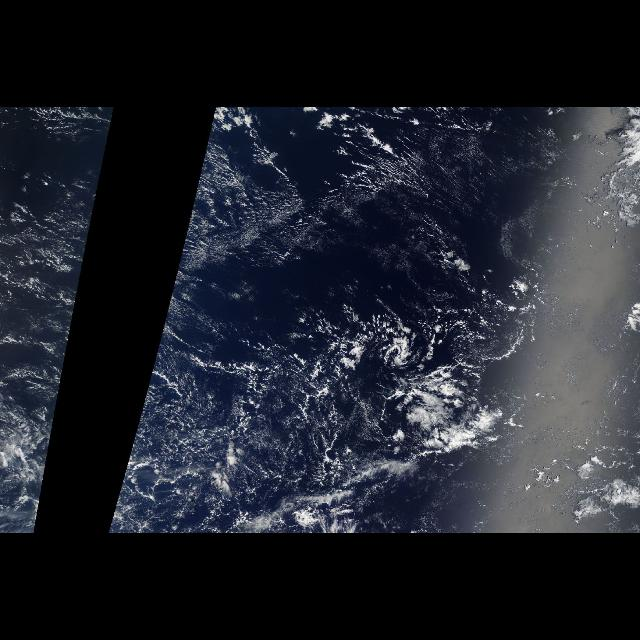Gravel: (119, 408, 254, 526)
Sugar: (159, 183, 327, 343), (22, 183, 100, 343)
